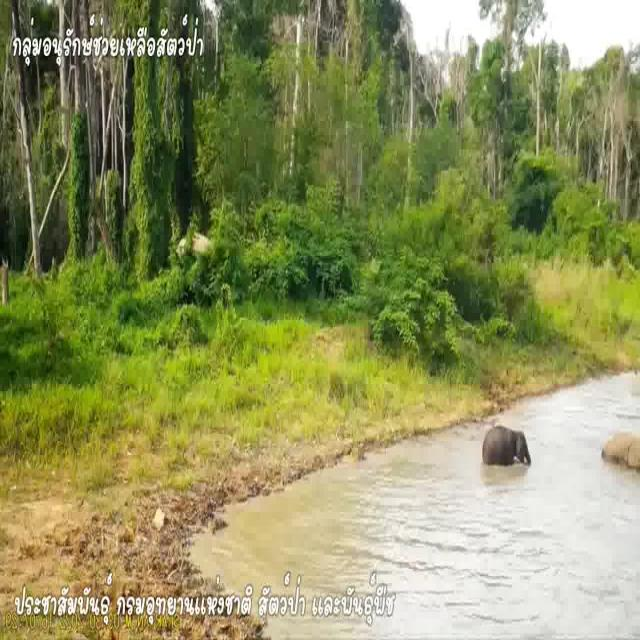Elephant: (478, 424, 532, 469)
